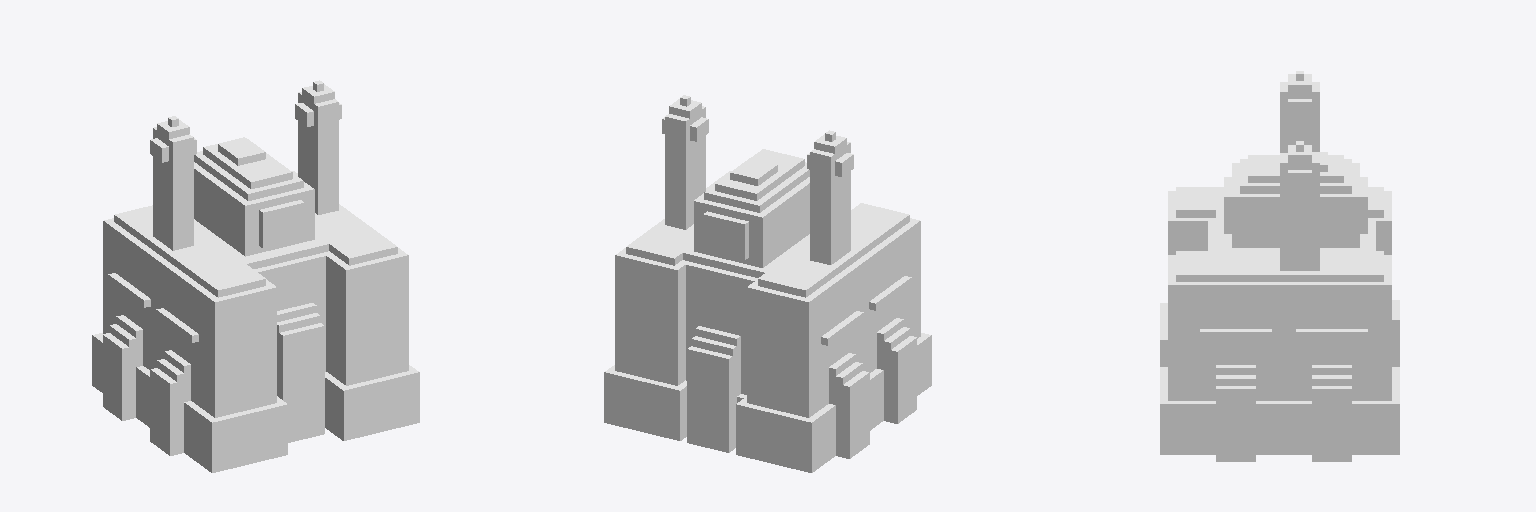
File: RobotBuilding.obj
The picture shows the model from 3 angles: view 1: azimuth 30°, elevation 25°; view 2: azimuth 150°, elevation 25°; view 3: azimuth 270°, elevation 25°; orthographic projection.
Size of the model in its own units: 34 by 41 by 30.